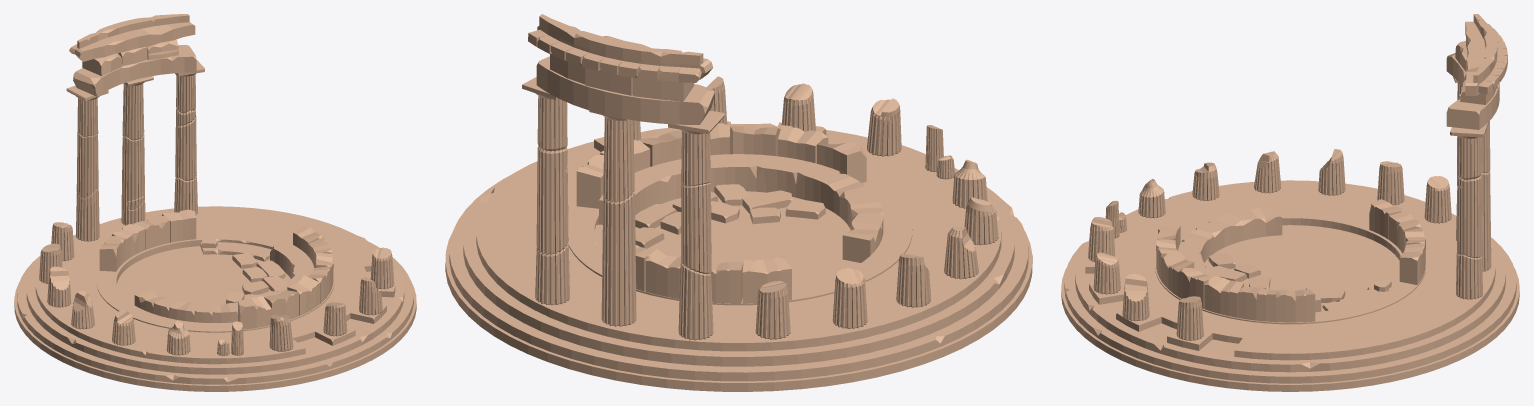
File: SHRINEEE.fbx
3 renders of one model, left to right at view 1: azimuth 30°, elevation 25°; view 2: azimuth 150°, elevation 25°; view 3: azimuth 270°, elevation 25°, orthographic. The views are drawn at different scales.
Parts seen in each view (by area): view 1: base, pillar; view 2: base, pillar; view 3: base, pillar.
Boxes of the visible parts, x1,y1,x2,y2 form: base: (14, 14, 416, 391); pillar: (39, 60, 394, 355); base: (445, 14, 1032, 391); pillar: (522, 76, 998, 340); base: (1061, 14, 1519, 391); pillar: (1088, 76, 1491, 340).
Bounding box in the file's own units: 11.09 × 6.67 × 11.09.
